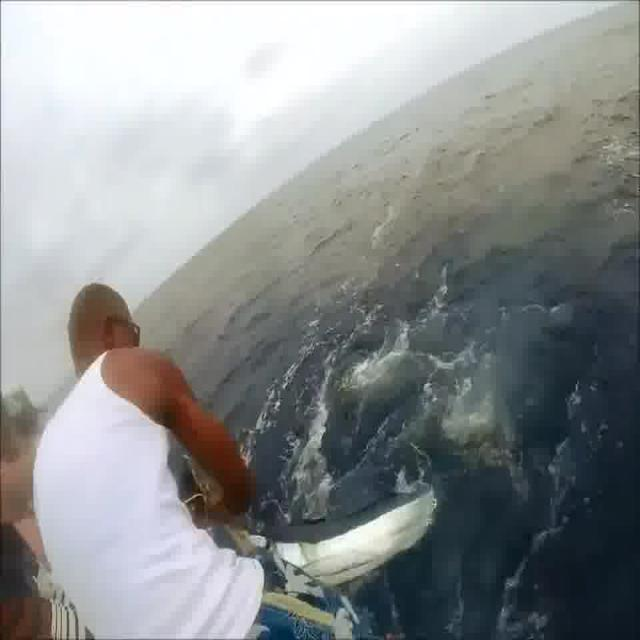White Marlin: (240, 478, 437, 598)
